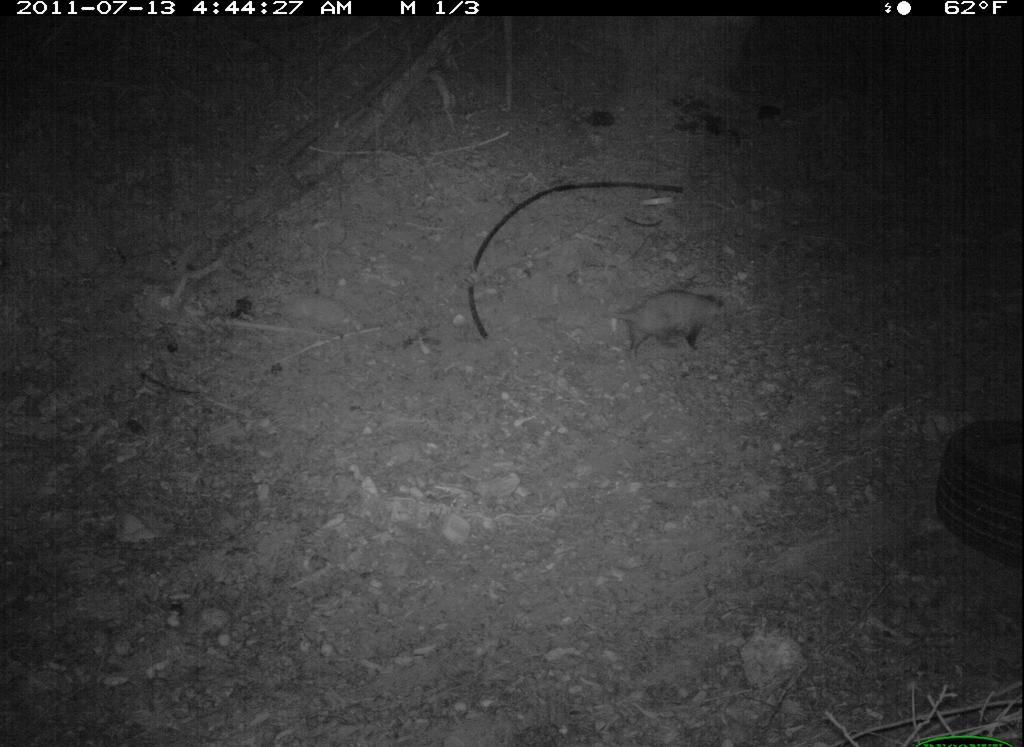opossum: (588, 278, 748, 372)
